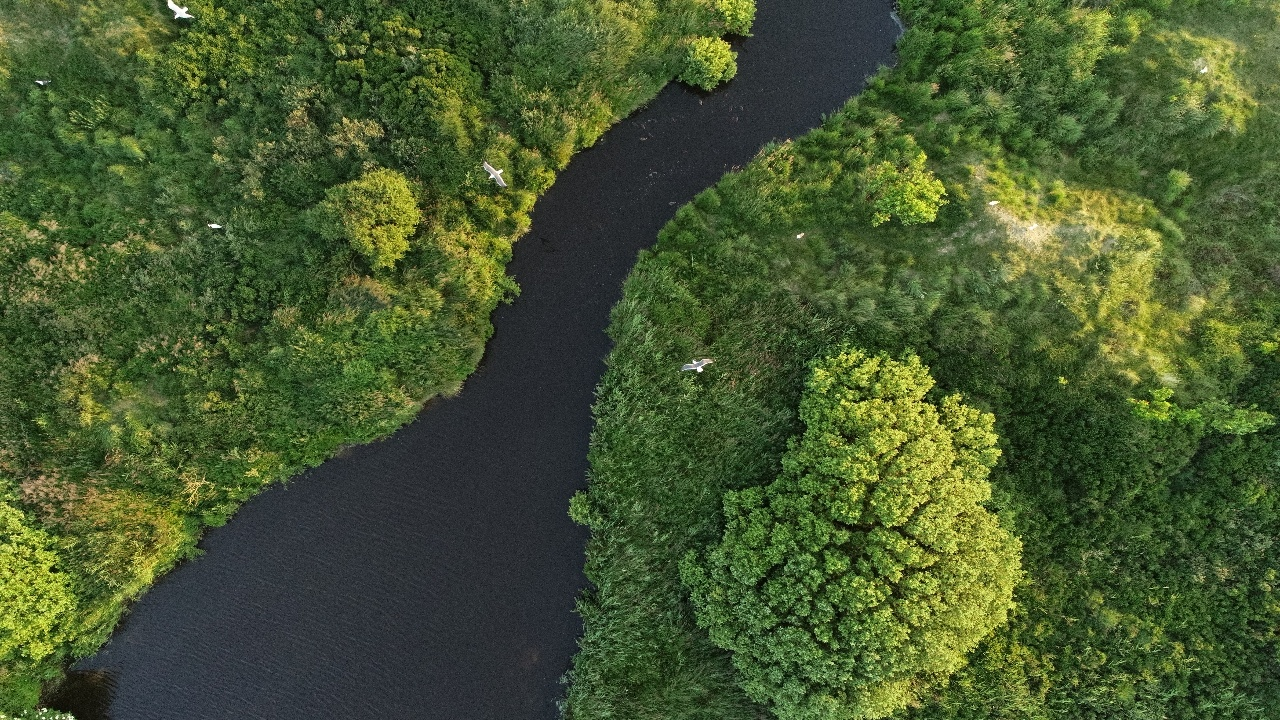Bird: (195, 205, 236, 245), (27, 63, 68, 103), (476, 153, 517, 193), (674, 342, 715, 382), (778, 213, 819, 253), (972, 182, 1013, 222), (1181, 49, 1222, 89), (158, 1, 204, 28)
